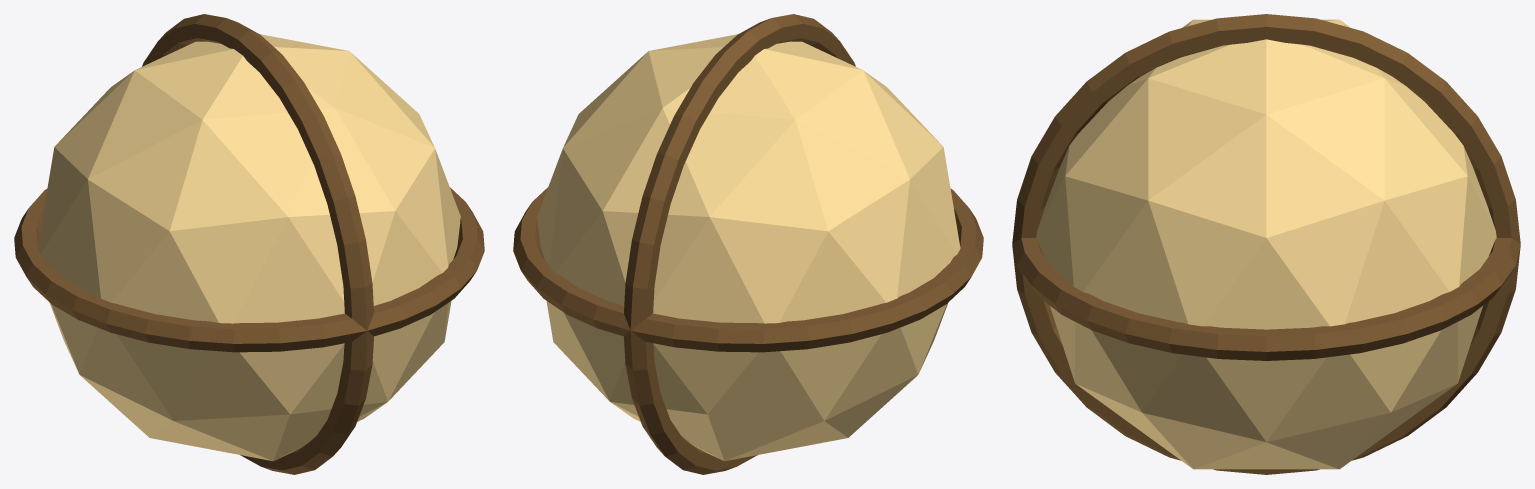
Rendered from SunStone.fbx.
3 renders of one model, left to right at view 1: azimuth 30°, elevation 25°; view 2: azimuth 150°, elevation 25°; view 3: azimuth 270°, elevation 25°, orthographic. The views are drawn at different scales.
Parts seen in each view (by area): view 1: SunStone; view 2: SunStone; view 3: SunStone.
Part boxes in pixels (x1,y1,x2,y2): SunStone: [14, 14, 484, 474]; SunStone: [513, 14, 983, 474]; SunStone: [1012, 14, 1520, 474].
Size of the model in its own units: 1.29 by 1.29 by 1.29.
